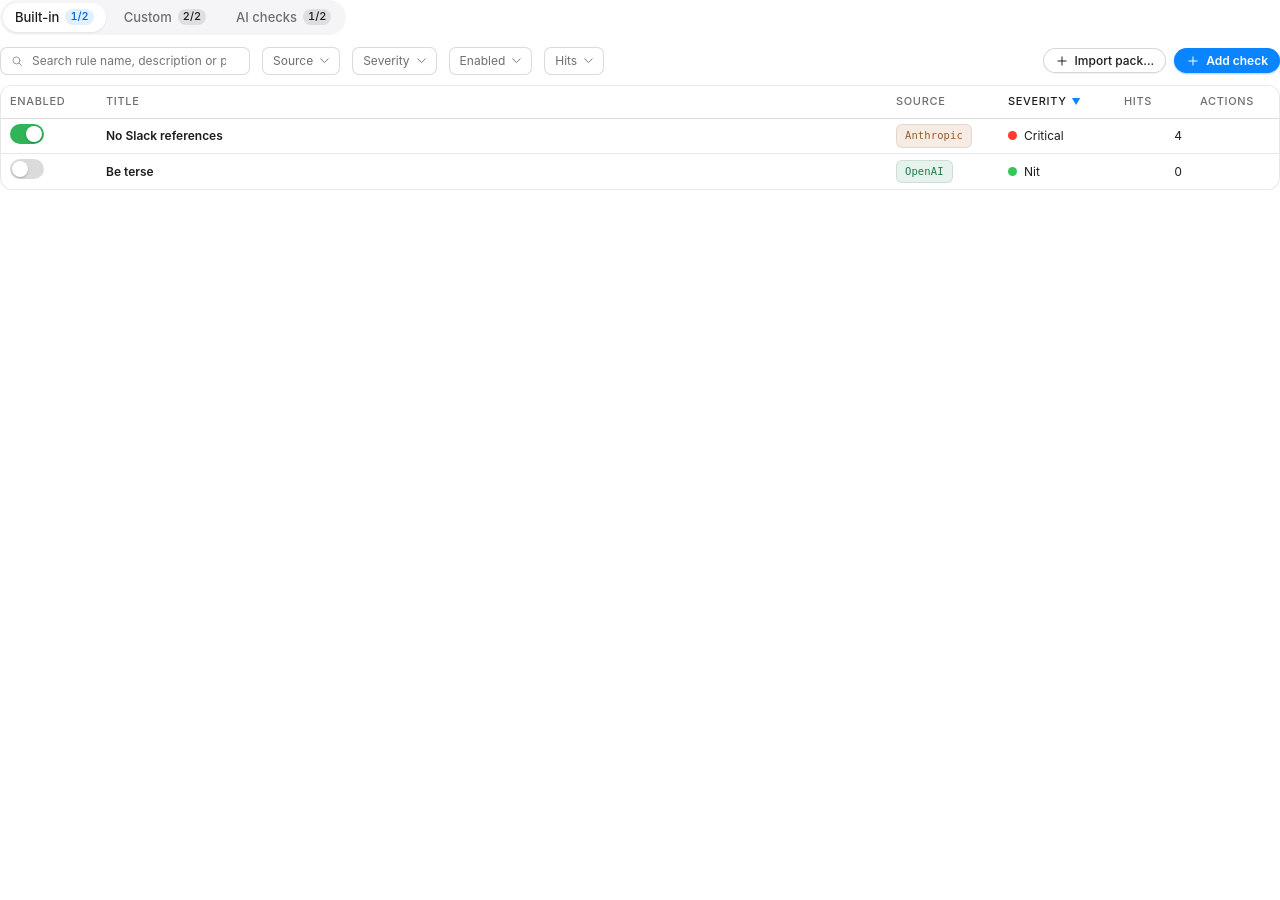
ChecksLibrary › opens a rule's sheet, with its full description, when its row is clicked
The width and height of the screenshot is (1280, 900).
Expected: the table is shown, x1=1 y1=86 x2=1279 y2=188
Click the text "No Slack references".
click(164, 136)  # box x1=106 y1=127 x2=223 y2=145
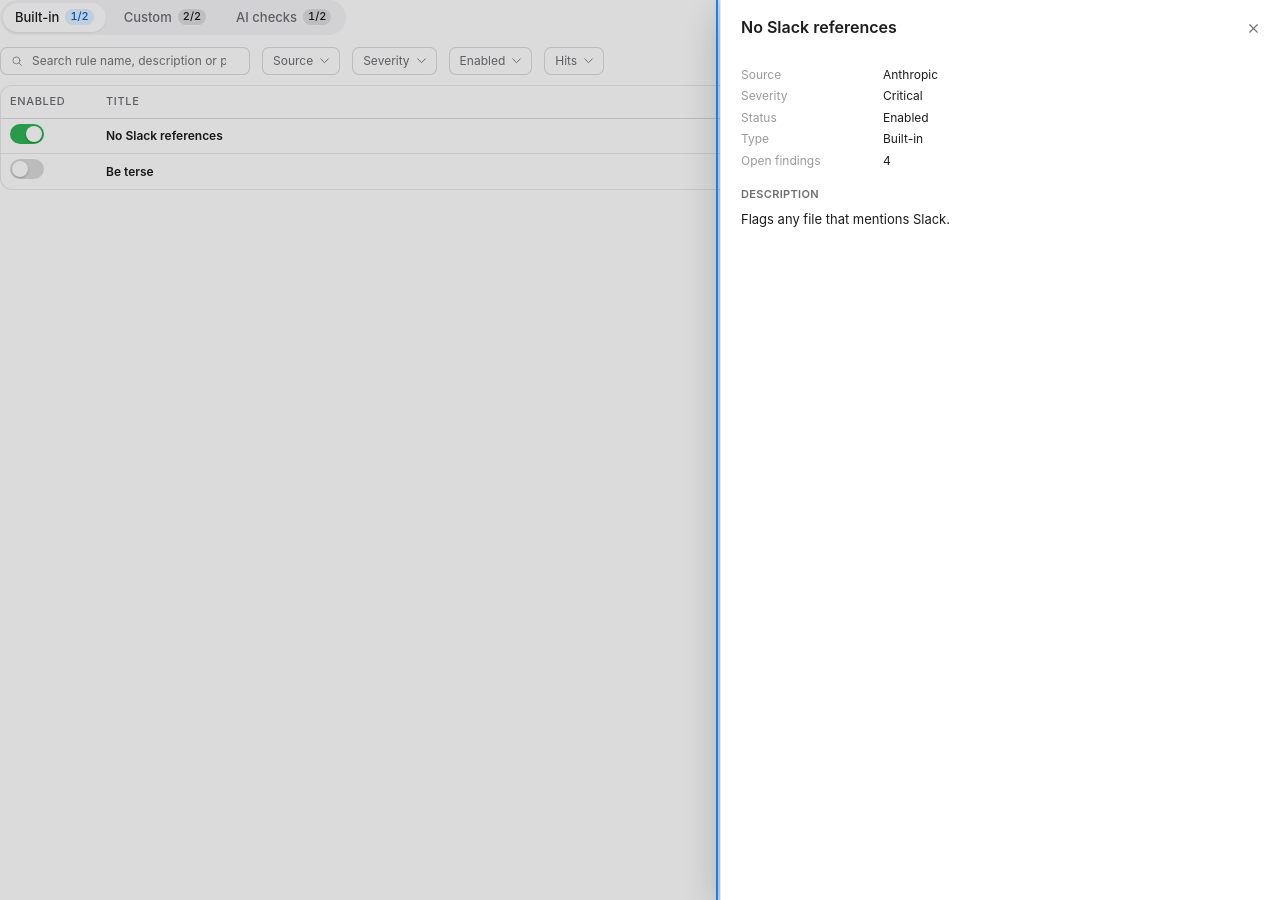
Expected: the text "Flags any file that mentions Slack." is shown, x1=741 y1=211 x2=950 y2=227
Press Escape in the dialog, box x1=720 y1=0 x2=1279 y2=899
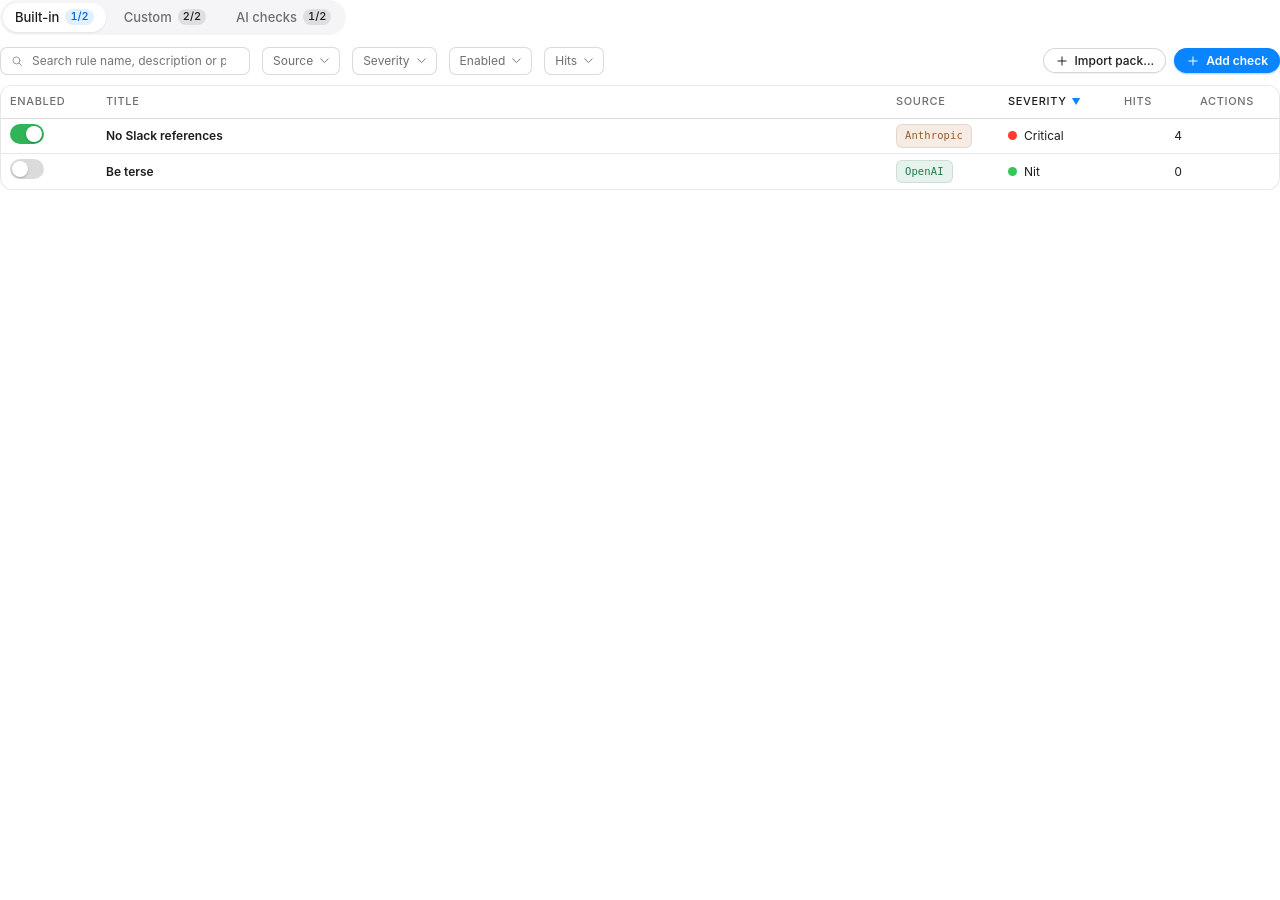
Expected: the dialog is gone
